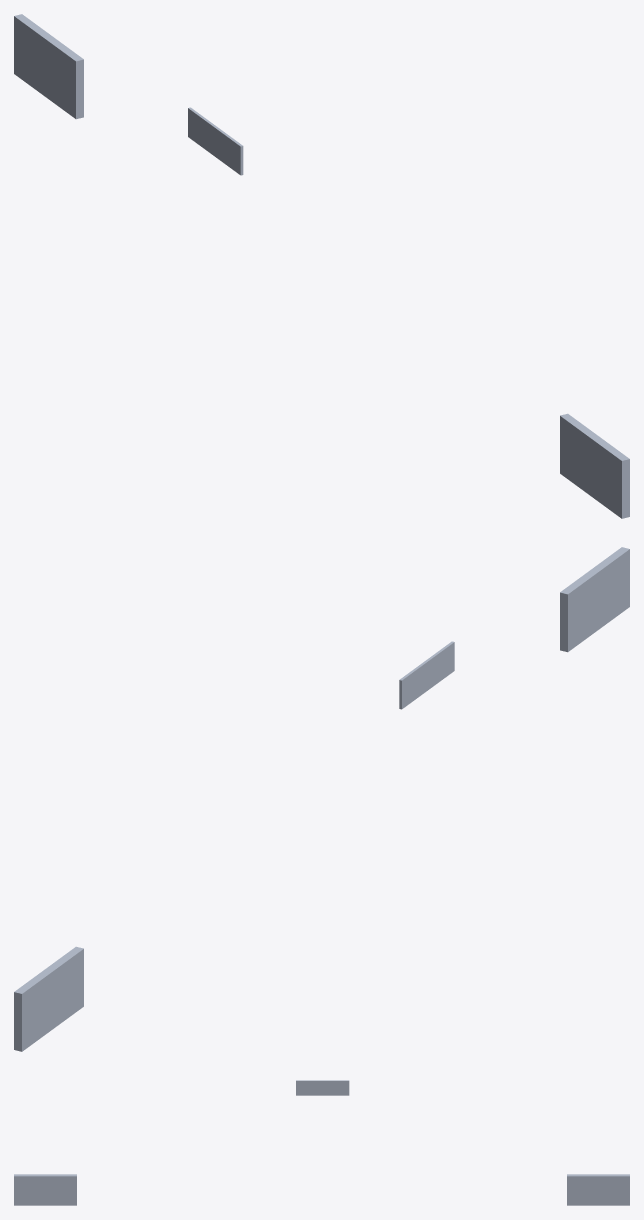
File: Mirrors.glb
3 views of the same model, one above another, from view 1: azimuth 30°, elevation 25°; view 2: azimuth 150°, elevation 25°; view 3: azimuth 270°, elevation 25° (orthographic). The views are drawn at different scales.
Visible parts, largest first — view 1: Cube.109; view 2: Cube.109; view 3: Cube.109.
Boxes of the visible parts, left/top/right/bottom form: Cube.109: left=14, top=14, right=629, bottom=518; Cube.109: left=14, top=547, right=629, bottom=1051; Cube.109: left=14, top=1080, right=629, bottom=1205.
Size of the model in its own units: 0.00962 by 0.016 by 0.0912.
1 material, 1 textured.
